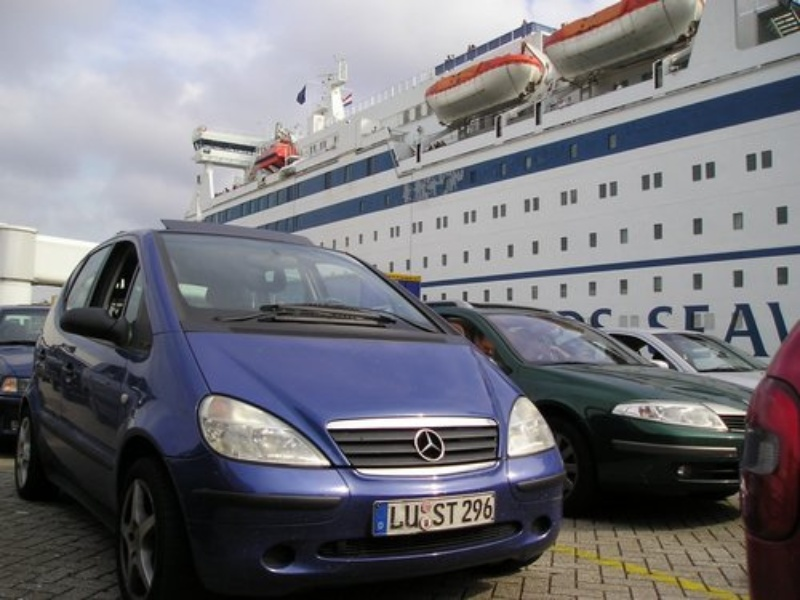car: (14, 220, 565, 594), (425, 301, 757, 509), (600, 328, 767, 391), (1, 306, 53, 451)
plate: (371, 491, 495, 537)
